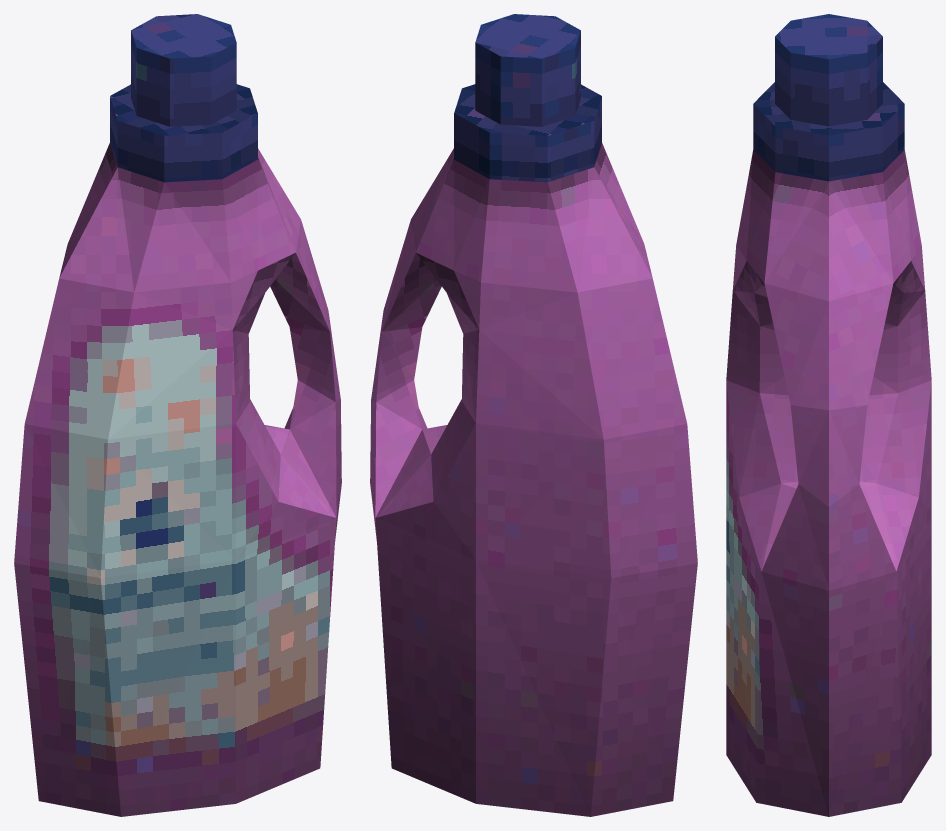
Rendered from fabric-softner.glb.
The picture shows the model from 3 angles, left to right: view 1: azimuth 30°, elevation 25°; view 2: azimuth 150°, elevation 25°; view 3: azimuth 270°, elevation 25°; orthographic projection.
Visible parts, largest first — view 1: fabric-softner-col; view 2: fabric-softner-col; view 3: fabric-softner-col.
Part boxes in pixels (box(x1,y1,x2,y2)): fabric-softner-col: box(14, 14, 341, 816); fabric-softner-col: box(370, 14, 697, 816); fabric-softner-col: box(726, 14, 931, 816).
Bounding box in the file's own units: 0.127 × 0.27 × 0.07.
Materials: 1 (1 with a texture image).
